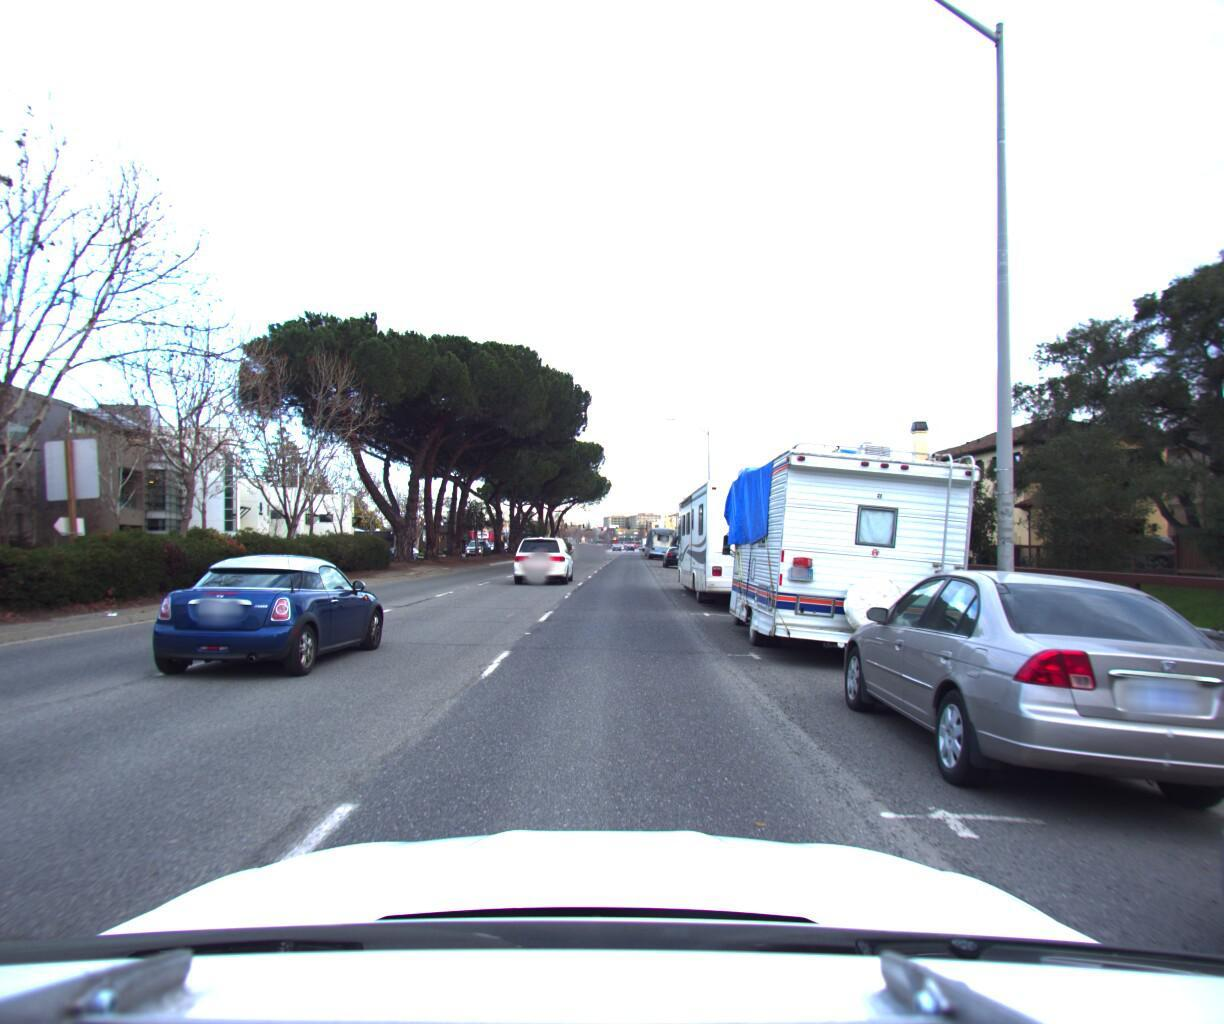bus: (671, 447, 824, 611)
car: (825, 548, 1224, 846), (143, 544, 399, 678), (510, 528, 577, 578), (660, 536, 692, 560), (462, 538, 491, 560), (582, 531, 606, 550)
other_vehicle: (713, 431, 997, 672)
truck: (645, 516, 676, 551)
